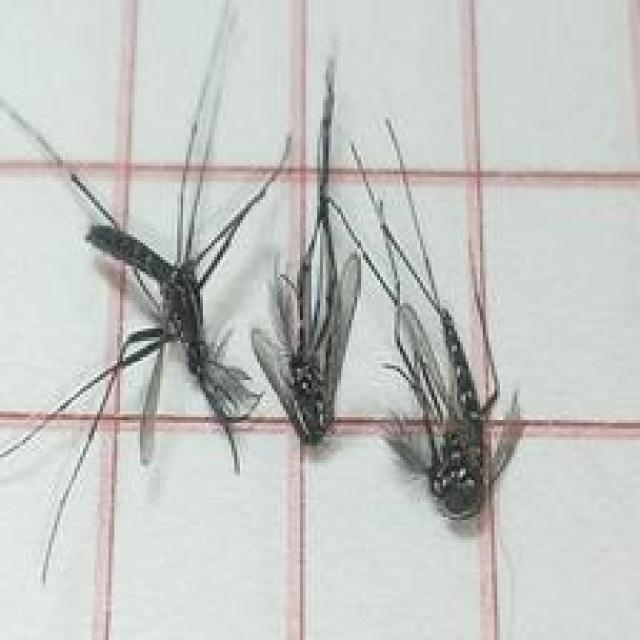Aedes albopictus: (0, 0, 294, 583)
